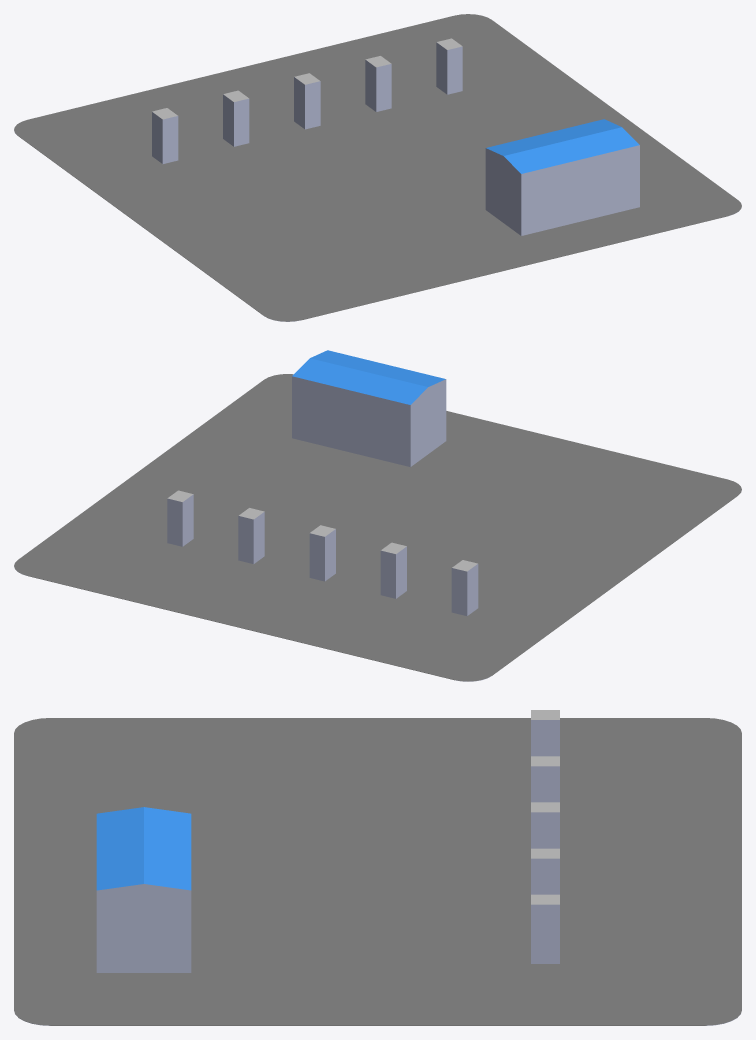
The picture shows the model from 3 angles, top to bottom: view 1: azimuth 30°, elevation 25°; view 2: azimuth 150°, elevation 25°; view 3: azimuth 270°, elevation 25°; orthographic projection. The views are drawn at different scales.
Parts seen in each view (by area): view 1: |平面布置01|Root|零件1^平面布置01-1|color-4, |平面布置01|Root|简化02-充电站-1|color-6_:_%E7%AB%993_-_2_:__简化02-充电站-1_B, |平面布置01|Root|简化02-充电站-1|color-7, |平面布置01|Root|简化02-充电站-1|color-6_:_%E7%AB%992_-_3_:__简化02-充电站-1_B, |平面布置01|Root|简化01-5|color_:_04%E6%AD%A3_-_1_:__简化01-5_Body-0_Fac, |平面布置01|Root|简化01-3|color_:_04%E6%AD%A3_-_1_:__简化01-3_Body-0_Fac, |平面布置01|Root|简化01-2|color_:_04%E6%AD%A3_-_1_:__简化01-2_Body-0_Fac, |平面布置01|Root|简化01-1|color_:_04%E6%AD%A3_-_1_:__简化01-1_Body-0_Fac, |平面布置01|Root|简化01-4|color_:_04%E6%AD%A3_-_1_:__简化01-4_Body-0_Fac, |平面布置01|Root|简化01-1|color_:_02%E5%B7%A6_-_2_:__简化01-1_Body-0_Fac, |平面布置01|Root|简化01-2|color_:_02%E5%B7%A6_-_2_:__简化01-2_Body-0_Fac; view 2: |平面布置01|Root|零件1^平面布置01-1|color-4, |平面布置01|Root|简化02-充电站-1|color-6_:_%E7%AB%993_-_1_:__简化02-充电站-1_B, |平面布置01|Root|简化02-充电站-1|color-7, |平面布置01|Root|简化02-充电站-1|color-6_:_%E7%AB%992_-_3_:__简化02-充电站-1_B, |平面布置01|Root|简化01-5|color-2_:_01%E5%90%8E_-_4_:__简化01-5_Body-0_F, |平面布置01|Root|简化01-2|color-2_:_01%E5%90%8E_-_4_:__简化01-2_Body-0_F, |平面布置01|Root|简化01-1|color-2_:_01%E5%90%8E_-_4_:__简化01-1_Body-0_F, |平面布置01|Root|简化01-3|color-2_:_01%E5%90%8E_-_4_:__简化01-3_Body-0_F, |平面布置01|Root|简化01-4|color-2_:_01%E5%90%8E_-_4_:__简化01-4_Body-0_F; view 3: |平面布置01|Root|零件1^平面布置01-1|color-4, |平面布置01|Root|简化02-充电站-1|color-6_:_%E7%AB%992_-_4_:__简化02-充电站-1_B, |平面布置01|Root|简化02-充电站-1|color-7, |平面布置01|Root|简化01-1|color_:_03%E5%8F%B3_-_3_:__简化01-1_Body-0_Fac, |平面布置01|Root|简化01-2|color_:_03%E5%8F%B3_-_3_:__简化01-2_Body-0_Fac, |平面布置01|Root|简化01-3|color_:_03%E5%8F%B3_-_3_:__简化01-3_Body-0_Fac, |平面布置01|Root|简化01-4|color_:_03%E5%8F%B3_-_3_:__简化01-4_Body-0_Fac, |平面布置01|Root|简化01-5|color_:_03%E5%8F%B3_-_3_:__简化01-5_Body-0_Fac.
Part boxes in pixels (<box>): |平面布置01|Root|零件1^平面布置01-1|color-4: <box>14,14,741,321</box>; |平面布置01|Root|简化02-充电站-1|color-6_:_%E7%AB%993_-_2_:__简化02-充电站-1_B: <box>521,145,639,235</box>; |平面布置01|Root|简化02-充电站-1|color-7: <box>486,119,639,173</box>; |平面布置01|Root|简化02-充电站-1|color-6_:_%E7%AB%992_-_3_:__简化02-充电站-1_B: <box>485,148,521,235</box>; |平面布置01|Root|简化01-5|color_:_04%E6%AD%A3_-_1_:__简化01-5_Body-0_Fac: <box>162,116,178,163</box>; |平面布置01|Root|简化01-3|color_:_04%E6%AD%A3_-_1_:__简化01-3_Body-0_Fac: <box>305,81,320,129</box>; |平面布置01|Root|简化01-2|color_:_04%E6%AD%A3_-_1_:__简化01-2_Body-0_Fac: <box>376,64,391,111</box>; |平面布置01|Root|简化01-1|color_:_04%E6%AD%A3_-_1_:__简化01-1_Body-0_Fac: <box>447,46,462,94</box>; |平面布置01|Root|简化01-4|color_:_04%E6%AD%A3_-_1_:__简化01-4_Body-0_Fac: <box>234,98,249,146</box>; |平面布置01|Root|简化01-1|color_:_02%E5%B7%A6_-_2_:__简化01-1_Body-0_Fac: <box>436,42,447,94</box>; |平面布置01|Root|简化01-2|color_:_02%E5%B7%A6_-_2_:__简化01-2_Body-0_Fac: <box>365,60,376,111</box>; |平面布置01|Root|零件1^平面布置01-1|color-4: <box>14,374,741,681</box>; |平面布置01|Root|简化02-充电站-1|color-6_:_%E7%AB%993_-_1_:__简化02-充电站-1_B: <box>292,376,410,466</box>; |平面布置01|Root|简化02-充电站-1|color-7: <box>292,350,445,404</box>; |平面布置01|Root|简化02-充电站-1|color-6_:_%E7%AB%992_-_3_:__简化02-充电站-1_B: <box>410,379,446,466</box>; |平面布置01|Root|简化01-5|color-2_:_01%E5%90%8E_-_4_:__简化01-5_Body-0_F: <box>451,568,467,615</box>; |平面布置01|Root|简化01-2|color-2_:_01%E5%90%8E_-_4_:__简化01-2_Body-0_F: <box>238,516,253,563</box>; |平面布置01|Root|简化01-1|color-2_:_01%E5%90%8E_-_4_:__简化01-1_Body-0_F: <box>167,498,182,546</box>; |平面布置01|Root|简化01-3|color-2_:_01%E5%90%8E_-_4_:__简化01-3_Body-0_F: <box>309,533,324,581</box>; |平面布置01|Root|简化01-4|color-2_:_01%E5%90%8E_-_4_:__简化01-4_Body-0_F: <box>380,550,395,598</box>; |平面布置01|Root|零件1^平面布置01-1|color-4: <box>14,718,741,1025</box>; |平面布置01|Root|简化02-充电站-1|color-6_:_%E7%AB%992_-_4_:__简化02-充电站-1_B: <box>96,884,191,972</box>; |平面布置01|Root|简化02-充电站-1|color-7: <box>96,807,191,890</box>; |平面布置01|Root|简化01-1|color_:_03%E5%8F%B3_-_3_:__简化01-1_Body-0_Fac: <box>531,904,559,963</box>; |平面布置01|Root|简化01-2|color_:_03%E5%8F%B3_-_3_:__简化01-2_Body-0_Fac: <box>531,858,559,894</box>; |平面布置01|Root|简化01-3|color_:_03%E5%8F%B3_-_3_:__简化01-3_Body-0_Fac: <box>531,812,559,848</box>; |平面布置01|Root|简化01-4|color_:_03%E5%8F%B3_-_3_:__简化01-4_Body-0_Fac: <box>531,766,559,802</box>; |平面布置01|Root|简化01-5|color_:_03%E5%8F%B3_-_3_:__简化01-5_Body-0_Fac: <box>531,720,559,756</box>.
Size of the model in its own units: 20 by 2.71 by 20.
